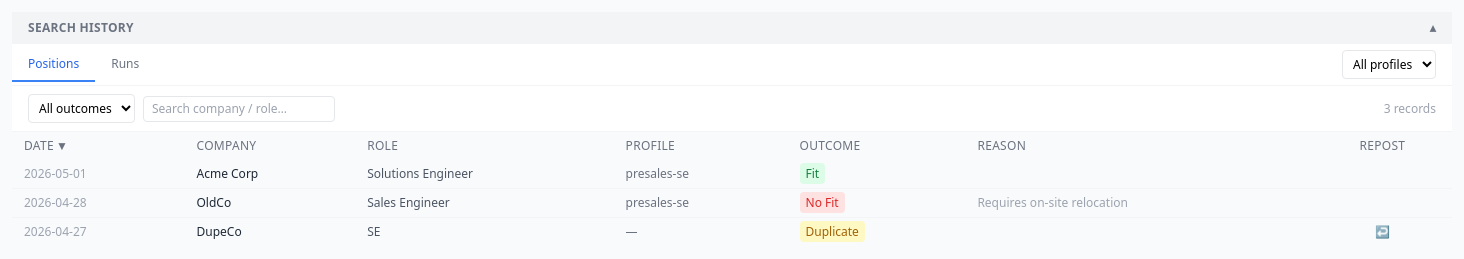
Test: SearchView — Search History panel › collapses the panel when the header is clicked
The image size is (1464, 259).
Expected: the text "Acme Corp" is shown, x1=184 y1=160 x2=355 y2=188
Click the button "Search History ▴": (81, 28) x1=12 y1=12 x2=1452 y2=44
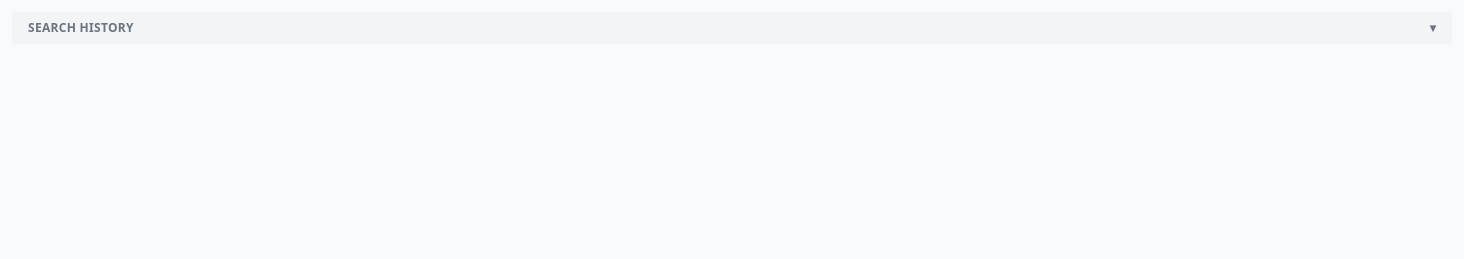
Now the text "Acme Corp" is gone
